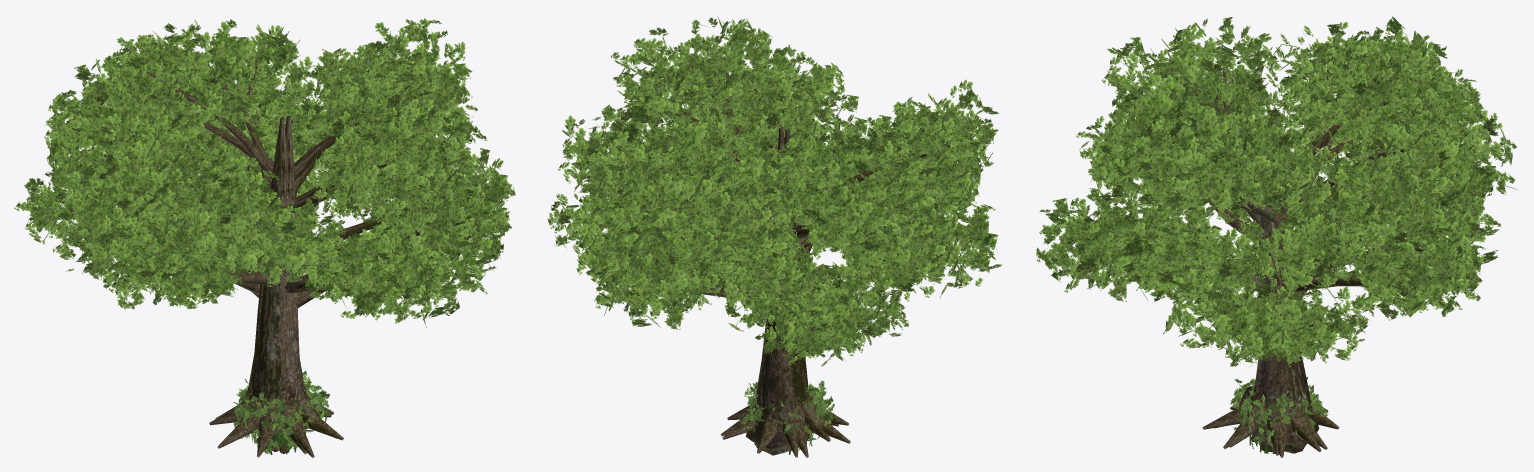
Rendered from hero_forest_kit.glb.
3 renders of one model, left to right at view 1: azimuth 30°, elevation 25°; view 2: azimuth 150°, elevation 25°; view 3: azimuth 270°, elevation 25°, orthographic. The views are drawn at different scales.
Parts seen in each view (by area): view 1: hero_oak_a, hero_oak_b, hero_shrub_b, hero_shrub_a; view 2: hero_oak_b, hero_oak_a, hero_shrub_b, hero_shrub_a; view 3: hero_oak_b, hero_oak_a, hero_shrub_b, hero_shrub_a.
Part boxes in pixels (x1=…): hero_oak_a: x1=14, y1=19, x2=511, y2=457; hero_oak_b: x1=44, y1=18, x2=515, y2=457; hero_shrub_b: x1=235, y1=375, x2=330, y2=442; hero_shrub_a: x1=233, y1=371, x2=331, y2=453; hero_oak_b: x1=547, y1=16, x2=1001, y2=457; hero_oak_a: x1=558, y1=40, x2=980, y2=457; hero_shrub_b: x1=737, y1=385, x2=834, y2=432; hero_shrub_a: x1=746, y1=380, x2=833, y2=446; hero_oak_b: x1=1036, y1=17, x2=1518, y2=455; hero_oak_a: x1=1074, y1=16, x2=1500, y2=457; hero_shrub_b: x1=1230, y1=377, x2=1329, y2=439; hero_shrub_a: x1=1231, y1=379, x2=1319, y2=446.
Bounding box in the file's own units: 7.17 × 6.11 × 7.02.
2 materials, 2 textured.
